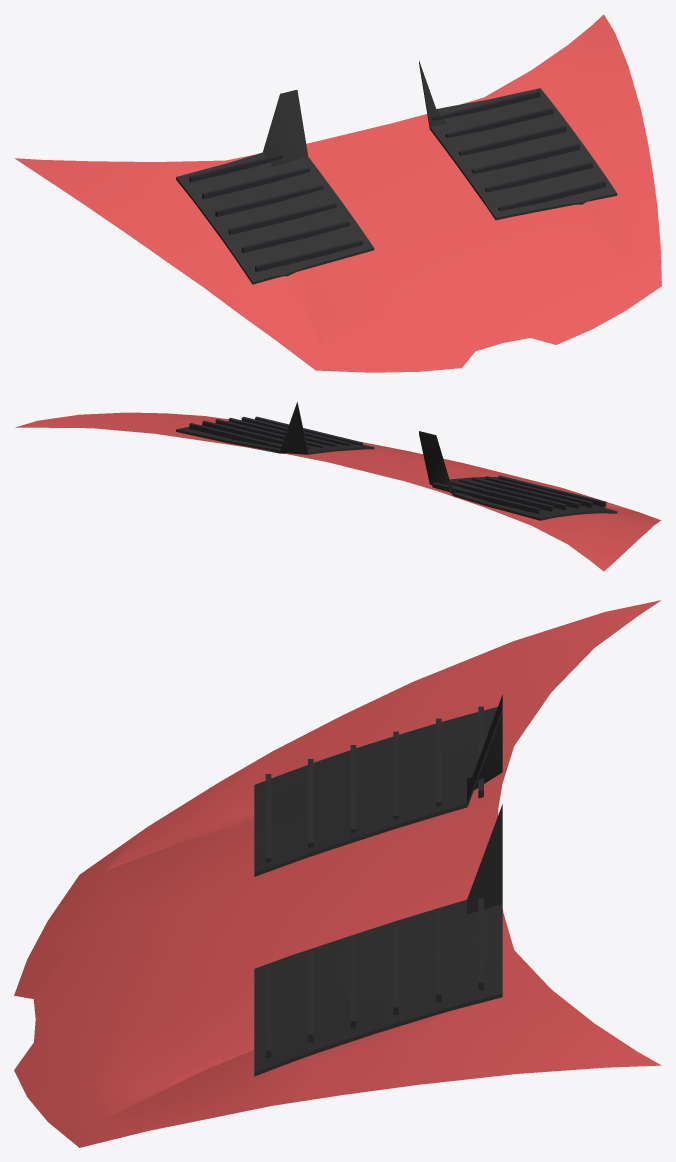
The model's file is hood-gt3-huracan.glb.
3 renders of one model, top to bottom at view 1: azimuth 30°, elevation 25°; view 2: azimuth 150°, elevation 25°; view 3: azimuth 270°, elevation 25°, orthographic. The views are drawn at different scales.
Visible parts, largest first — view 1: gt3_hood_base, gt3_hood_vent_R, gt3_hood_vent_L, gt3_hood_louvres; view 2: gt3_hood_base, gt3_hood_louvres, gt3_hood_vent_R, gt3_hood_vent_L; view 3: gt3_hood_base, gt3_hood_vent_L, gt3_hood_vent_R, gt3_hood_louvres.
Part boxes in pixels (x1,y1,x2,y2): gt3_hood_base: (15,14,661,372); gt3_hood_vent_R: (176,90,374,284); gt3_hood_vent_L: (419,61,617,220); gt3_hood_louvres: (189,91,605,271); gt3_hood_base: (15,412,661,571); gt3_hood_louvres: (189,416,606,513); gt3_hood_vent_R: (419,431,617,520); gt3_hood_vent_L: (176,402,374,454); gt3_hood_base: (14,600,661,1147); gt3_hood_vent_L: (254,804,502,1076); gt3_hood_vent_R: (254,694,502,876); gt3_hood_louvres: (265,706,483,1057).
Bounding box in the file's own units: 1.55 × 0.4309 × 0.9134.
